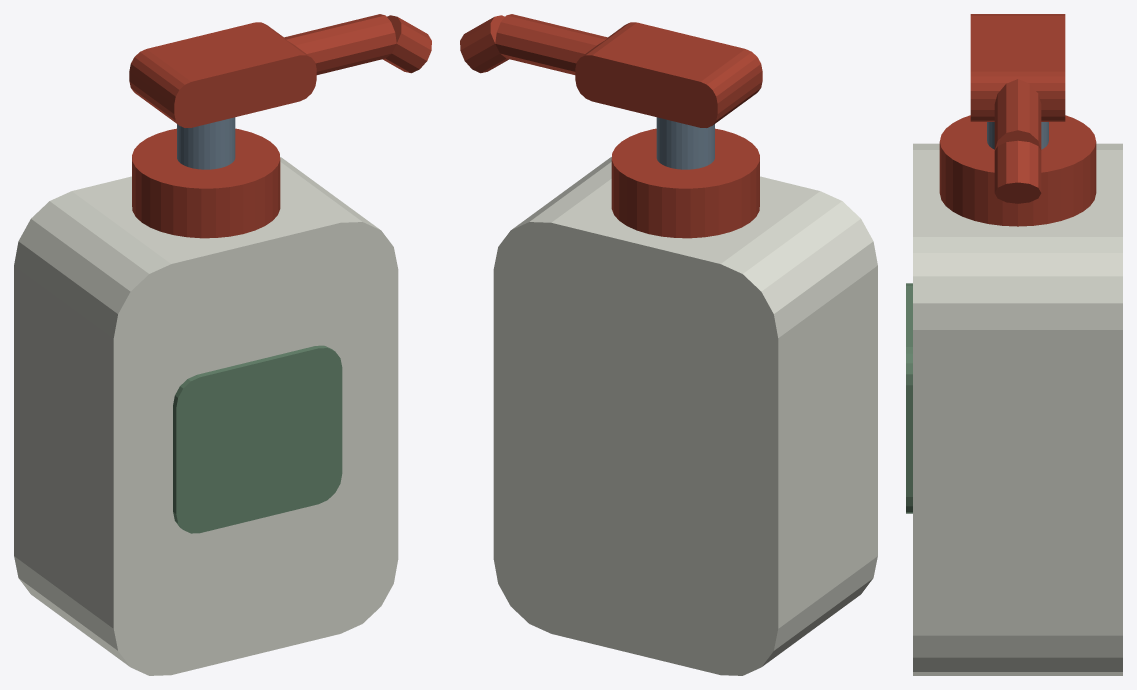
File: pump.glb
3 views of the same model, side by side, from view 1: azimuth 30°, elevation 25°; view 2: azimuth 150°, elevation 25°; view 3: azimuth 270°, elevation 25° (orthographic). The views are drawn at different scales.
Parts seen in each view (by area): view 1: bottle body, label, pump head, neck, spout0, piston, spout1; view 2: bottle body, pump head, neck, spout0, piston, spout1; view 3: bottle body, neck, pump head, spout1, spout0, label, piston.
Boxes of the visible parts, x1=… form: bottle body: x1=14, y1=157, x2=398, y2=675; label: x1=173, y1=345, x2=342, y2=533; pump head: x1=129, y1=22, x2=316, y2=127; neck: x1=132, y1=128, x2=280, y2=238; spout0: x1=284, y1=14, x2=396, y2=74; piston: x1=177, y1=117, x2=235, y2=169; spout1: x1=383, y1=15, x2=431, y2=73; bottle body: x1=493, y1=157, x2=877, y2=675; pump head: x1=575, y1=22, x2=762, y2=127; neck: x1=611, y1=128, x2=759, y2=238; spout0: x1=495, y1=14, x2=607, y2=74; piston: x1=656, y1=117, x2=714, y2=169; spout1: x1=460, y1=15, x2=508, y2=73; bottle body: x1=913, y1=143, x2=1122, y2=675; neck: x1=939, y1=115, x2=1096, y2=226; pump head: x1=970, y1=14, x2=1065, y2=121; spout1: x1=994, y1=140, x2=1041, y2=203; spout0: x1=994, y1=79, x2=1041, y2=150; label: x1=906, y1=283, x2=912, y2=513; piston: x1=987, y1=122, x2=1048, y2=149.
Bounding box in the file's own units: 1.07 × 1.58 × 0.527.
